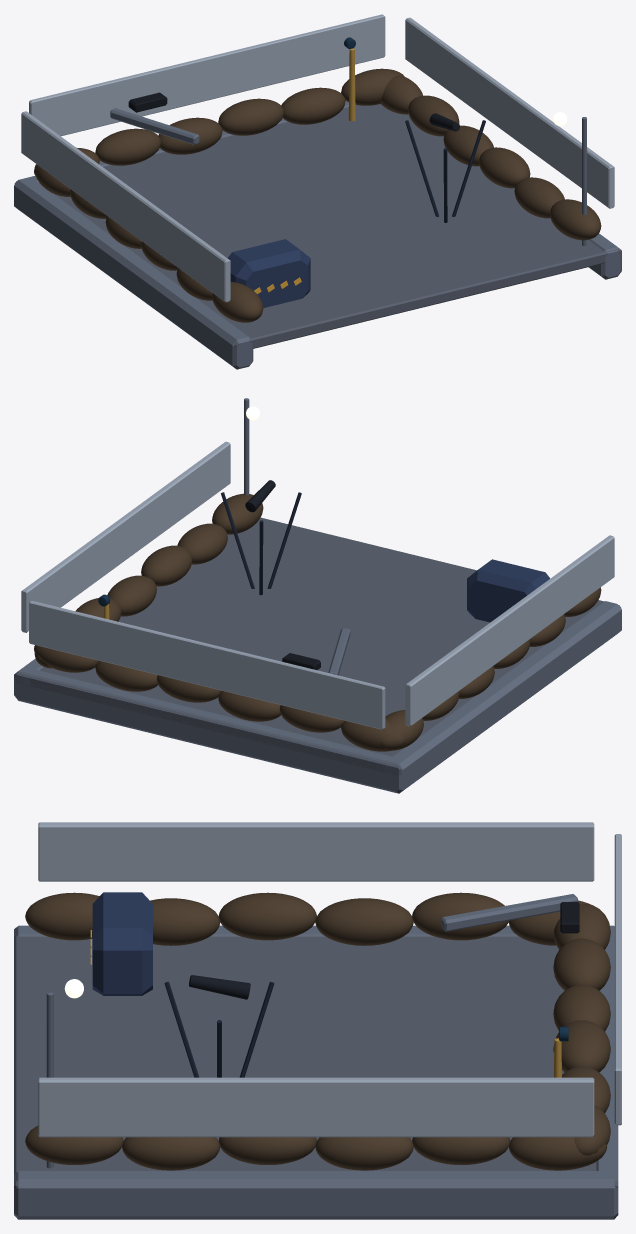
File: shared_snipernest.glb
3 views of the same model, one above another, from view 1: azimuth 30°, elevation 25°; view 2: azimuth 150°, elevation 25°; view 3: azimuth 270°, elevation 25° (orthographic). The views are drawn at different scales.
Parts seen in each view (by area): view 1: nest_deck, nest_plate0-2.2, nest_edge-2.40, nest_plate-2.20, nest_plate2.20, nest_crate, nest_bag0-2.21, nest_bag0-2.23, nest_bag0-2.24, nest_bag2.205, nest_bag2.203, nest_bag0-2.22 (+14 smaller); view 2: nest_deck, nest_plate0-2.2, nest_edge0-2.4, nest_edge-2.40, nest_plate-2.20, nest_plate2.20, nest_crate, nest_bag2.203, nest_bag2.204, nest_bag2.202, nest_bag0-2.22, nest_bag0-2.24 (+12 smaller); view 3: nest_deck, nest_plate2.20, nest_plate-2.20, nest_edge2.40, nest_crate, nest_bag-2.203, nest_bag-2.202, nest_bag2.202, nest_bag2.204, nest_bag-2.205, nest_bag-2.201, nest_bag-2.204 (+20 smaller).
Boxes of the visible parts, bbox=[...] form: nest_deck: bbox=[14, 104, 621, 350]; nest_plate0-2.2: bbox=[29, 14, 385, 136]; nest_edge-2.40: bbox=[14, 177, 253, 369]; nest_plate-2.20: bbox=[21, 111, 230, 302]; nest_plate2.20: bbox=[405, 17, 614, 208]; nest_crate: bbox=[227, 239, 310, 307]; nest_bag0-2.21: bbox=[95, 128, 161, 165]; nest_bag0-2.23: bbox=[218, 98, 283, 135]; nest_bag0-2.24: bbox=[281, 87, 345, 124]; nest_bag2.205: bbox=[550, 199, 601, 240]; nest_bag2.203: bbox=[479, 147, 530, 188]; nest_bag0-2.22: bbox=[158, 117, 222, 154]; nest_deck: bbox=[14, 517, 621, 775]; nest_plate0-2.2: bbox=[29, 601, 385, 729]; nest_edge0-2.4: bbox=[14, 667, 407, 790]; nest_edge-2.40: bbox=[383, 601, 621, 793]; nest_plate-2.20: bbox=[405, 535, 614, 726]; nest_plate2.20: bbox=[21, 441, 230, 632]; nest_crate: bbox=[467, 559, 549, 622]; nest_bag2.203: bbox=[141, 545, 192, 586]; nest_bag2.204: bbox=[177, 523, 227, 564]; nest_bag2.202: bbox=[107, 575, 156, 616]; nest_bag0-2.22: bbox=[218, 690, 280, 721]; nest_bag0-2.24: bbox=[95, 660, 157, 691]; nest_deck: bbox=[14, 927, 618, 1192]; nest_plate2.20: bbox=[38, 1077, 594, 1137]; nest_plate-2.20: bbox=[38, 822, 594, 881]; nest_edge2.40: bbox=[14, 1171, 618, 1219]; nest_crate: bbox=[92, 892, 152, 995]; nest_bag-2.203: bbox=[218, 892, 316, 940]; nest_bag-2.202: bbox=[315, 898, 413, 945]; nest_bag2.202: bbox=[315, 1137, 413, 1170]; nest_bag2.204: bbox=[122, 1137, 220, 1170]; nest_bag-2.205: bbox=[25, 892, 99, 940]; nest_bag-2.201: bbox=[412, 892, 508, 940]; nest_bag-2.204: bbox=[150, 898, 220, 945].
Size of what is drawn, in the model's own units: 5.08 by 1.97 by 5.03.
